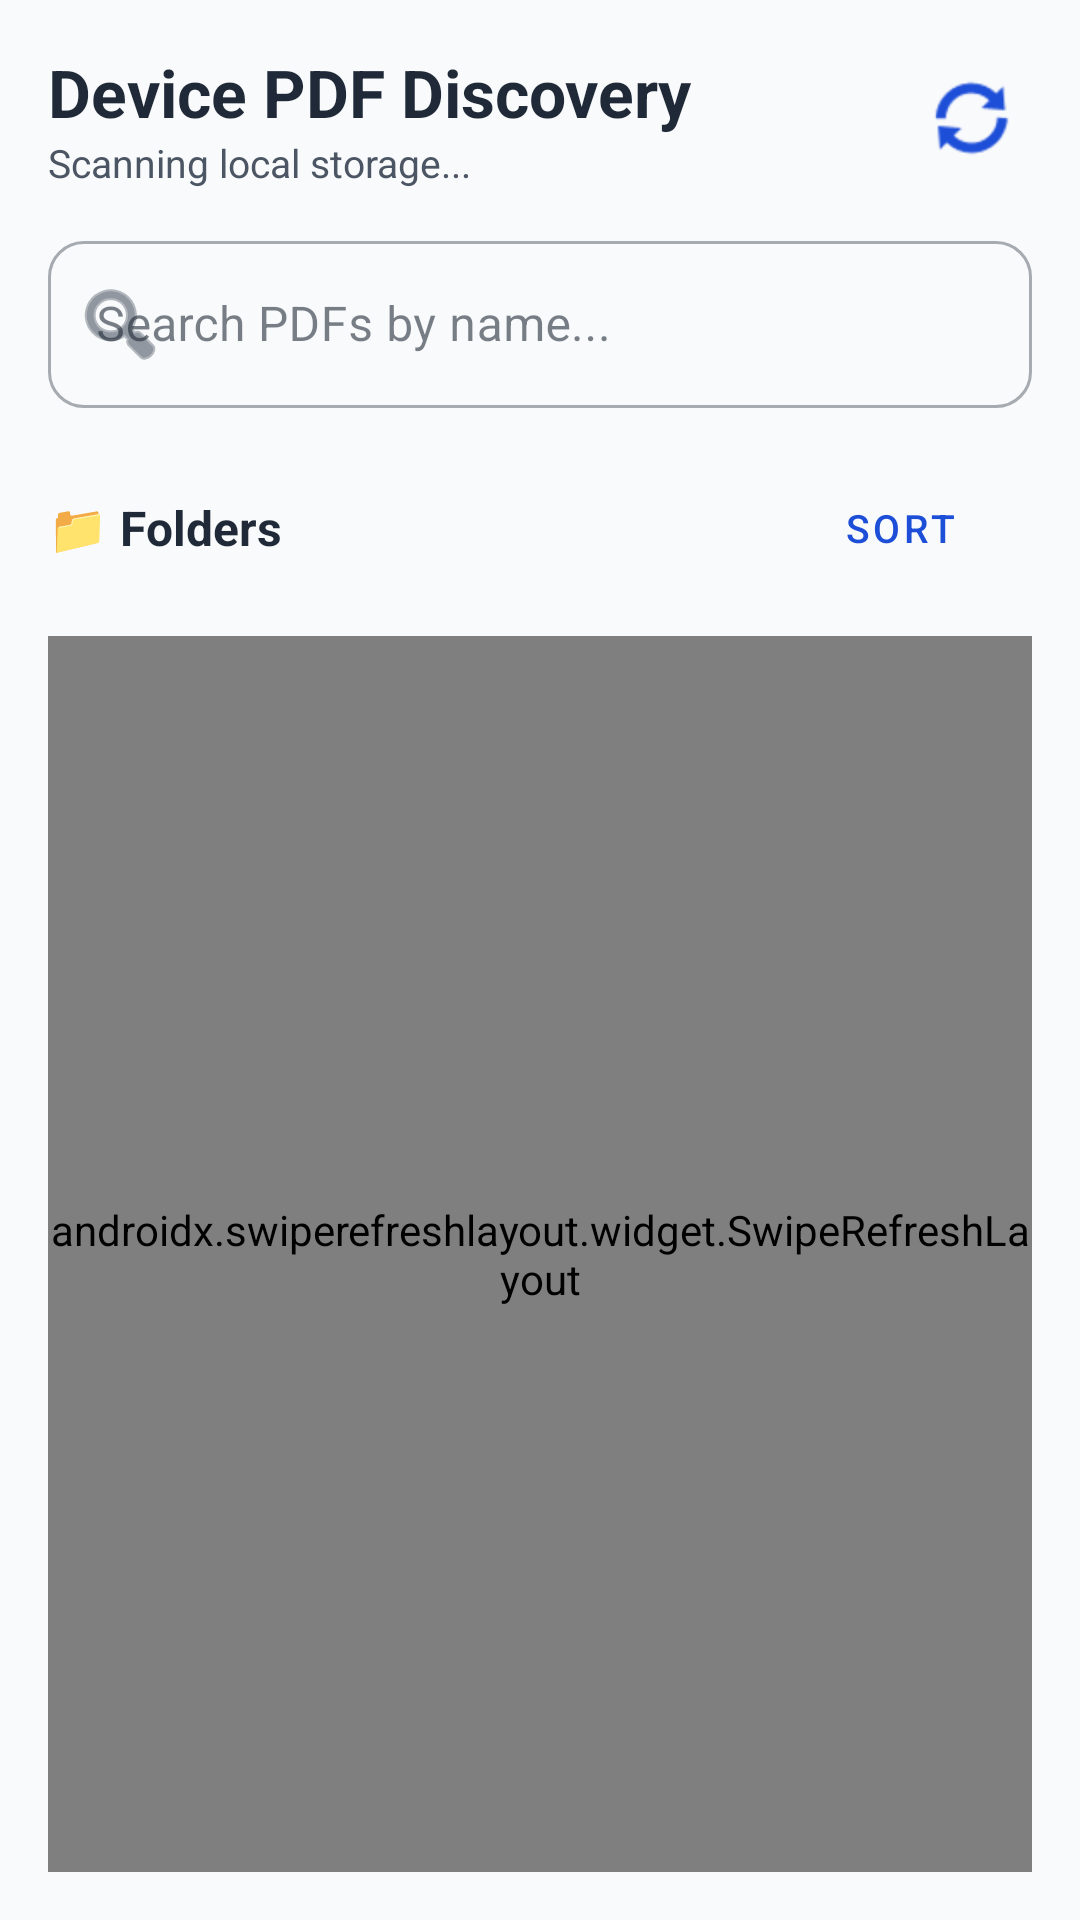

Screen size 1080 × 1920. Icon name, then its center in pixels as (x=x, y=y):
Refresh PDF files: (x=972, y=118)
